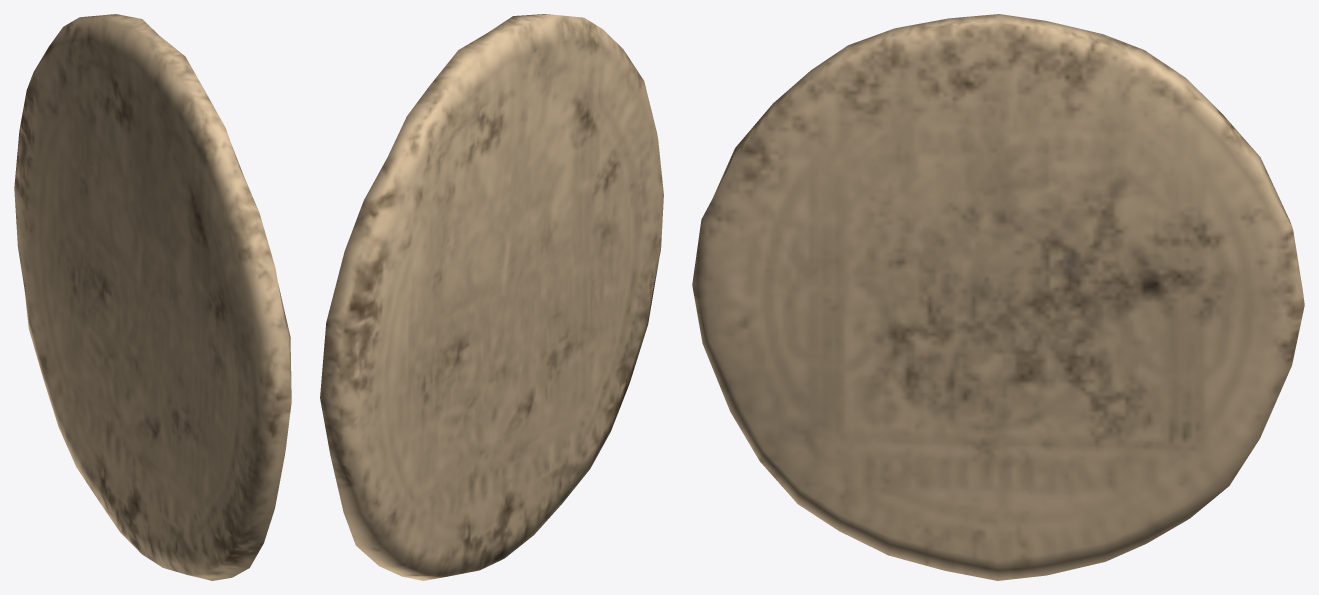
The model's file is NPC_Beggar_Coin.FBX.
The picture shows the model from 3 angles, left to right: view 1: azimuth 30°, elevation 25°; view 2: azimuth 150°, elevation 25°; view 3: azimuth 270°, elevation 25°; orthographic projection. The views are drawn at different scales.
Visible parts, largest first — view 1: NPC_Beggar_03_Coin; view 2: NPC_Beggar_03_Coin; view 3: NPC_Beggar_03_Coin.
Boxes of the visible parts, <box> form: NPC_Beggar_03_Coin: <box>14,14,291,580</box>; NPC_Beggar_03_Coin: <box>320,14,663,580</box>; NPC_Beggar_03_Coin: <box>692,14,1304,580</box>.
Bounding box in the file's own units: 0.8229 × 6.99 × 6.98.
